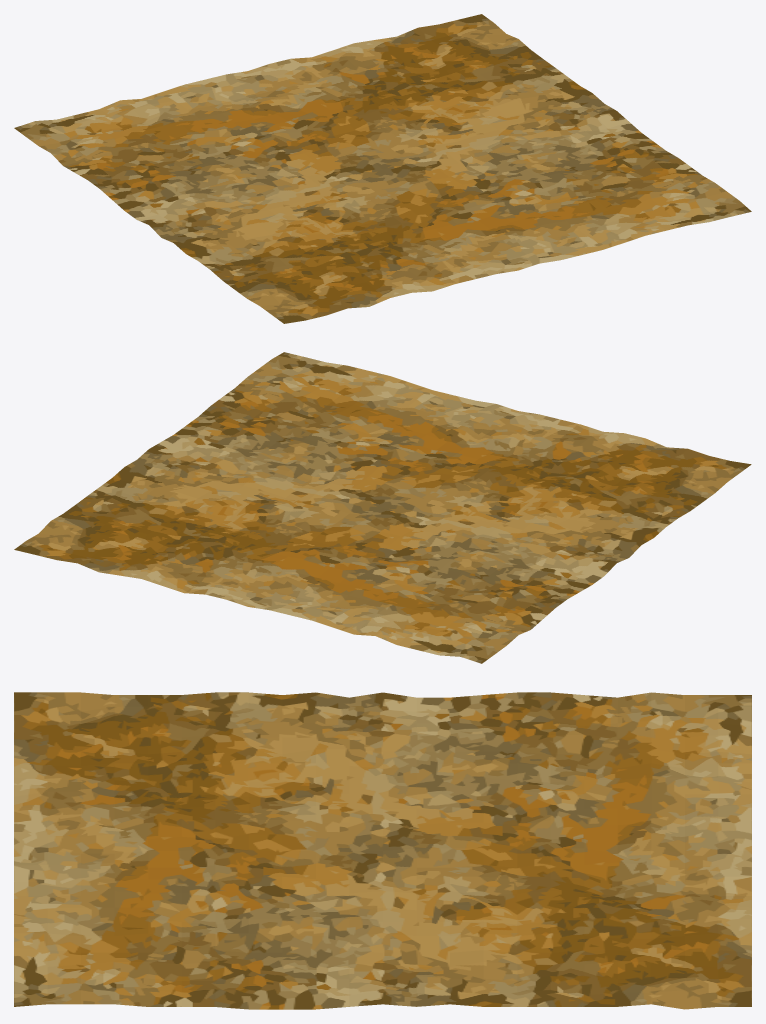
Rendered from suelo.glb.
3 renders of one model, top to bottom at view 1: azimuth 30°, elevation 25°; view 2: azimuth 150°, elevation 25°; view 3: azimuth 270°, elevation 25°, orthographic. The views are drawn at different scales.
Visible parts, largest first — view 1: Plane; view 2: Plane; view 3: Plane.
Boxes of the visible parts, bbox=[...] form: Plane: bbox=[14, 14, 751, 323]; Plane: bbox=[14, 352, 751, 663]; Plane: bbox=[14, 692, 751, 1009].
Size of the model in its own units: 1675 by 12.87 by 1675.
1 material, 1 textured.
